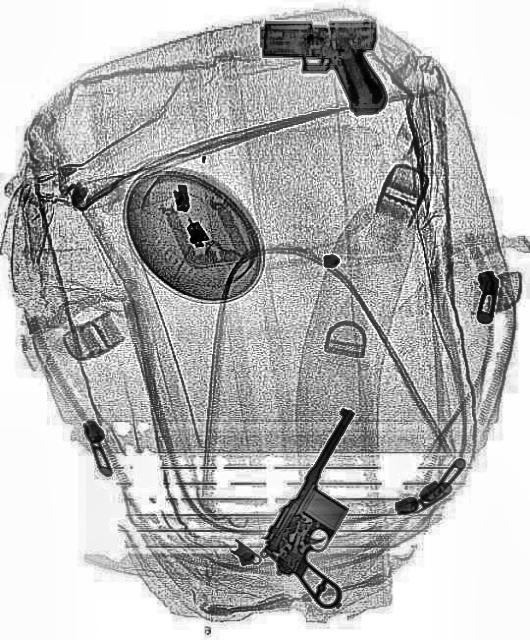Gun: (250, 404, 422, 614), (258, 18, 388, 112)
